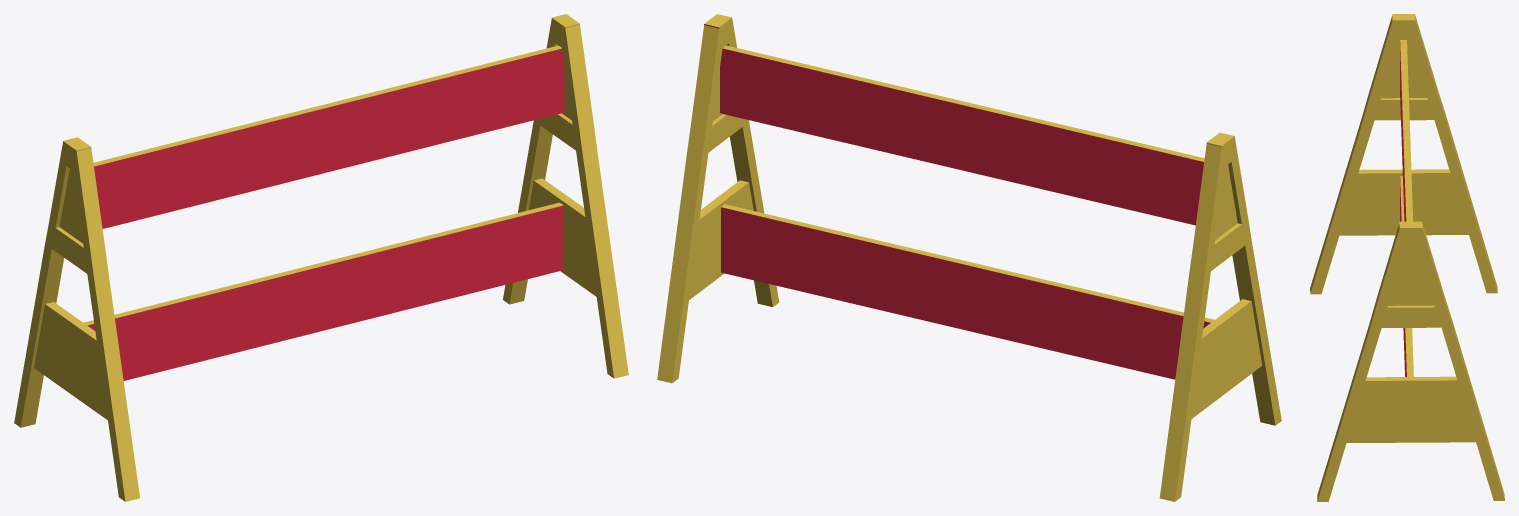
Rendered from Barricade1.fbx.
The picture shows the model from 3 angles, left to right: view 1: azimuth 30°, elevation 25°; view 2: azimuth 150°, elevation 25°; view 3: azimuth 270°, elevation 25°; orthographic projection. The views are drawn at different scales.
Parts seen in each view (by area): view 1: A_Barricade2L; view 2: A_Barricade2L; view 3: A_Barricade2L.
Boxes of the visible parts, x1,y1,x2,y2 form: A_Barricade2L: (14,14,628,501); A_Barricade2L: (657,14,1281,501); A_Barricade2L: (1310,14,1504,501).
Bounding box in the file's own units: 190 × 113 × 72.74.
